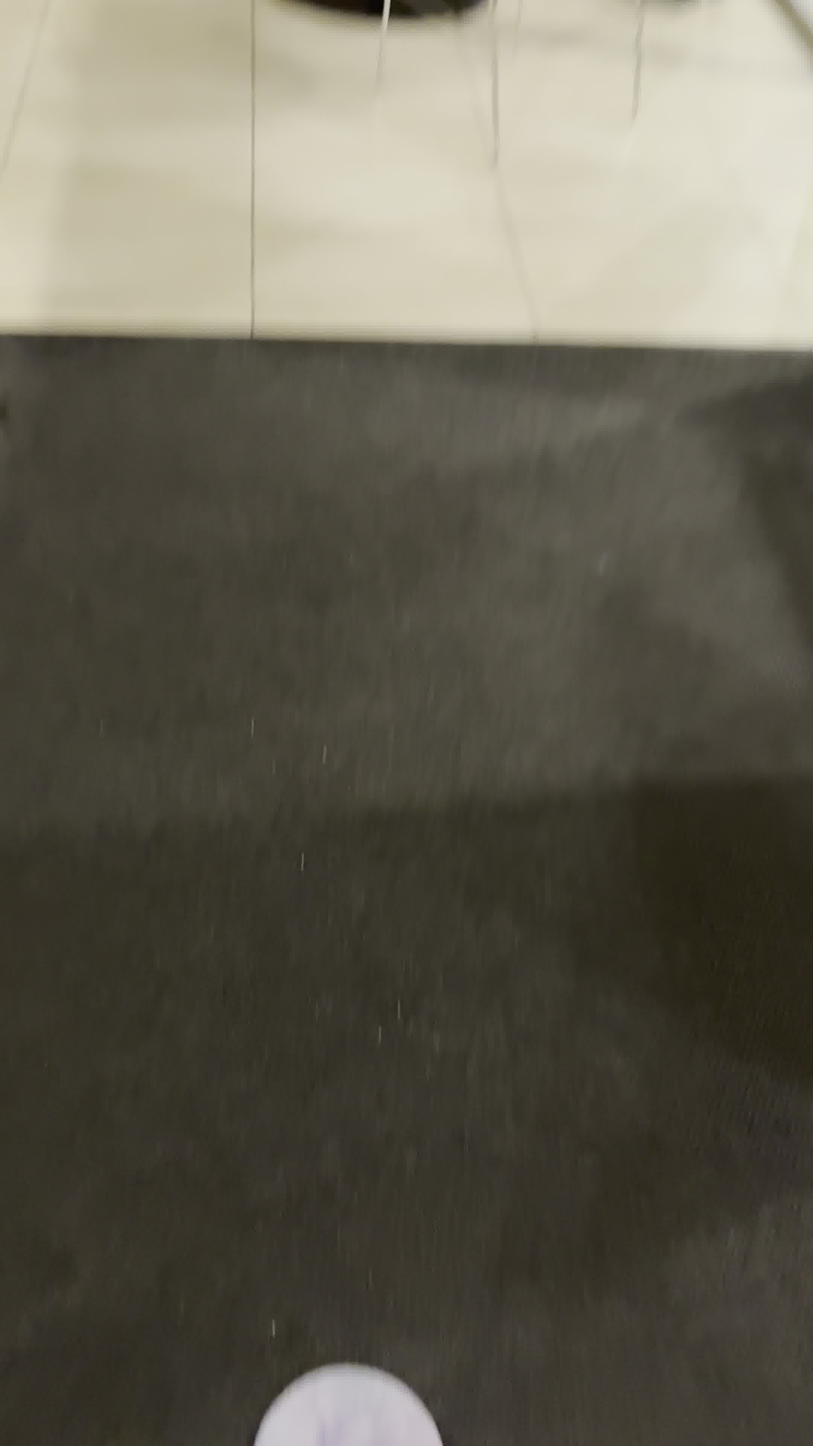Target: (242, 1353, 454, 1446)
